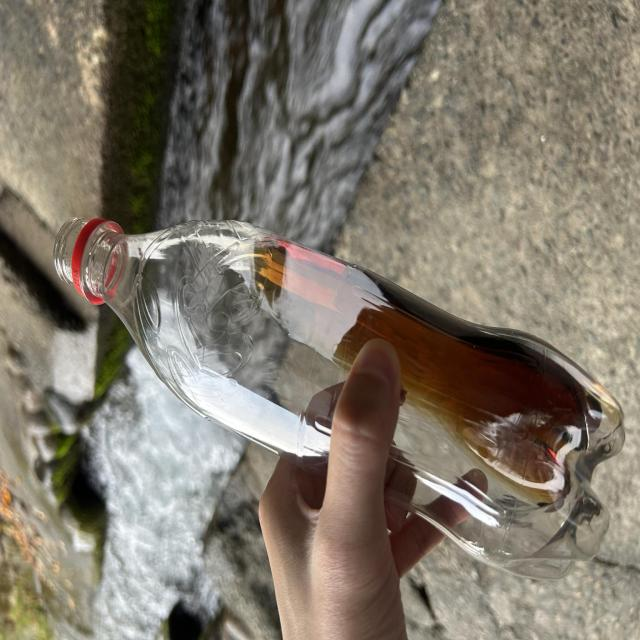low: (55, 219, 624, 577)
